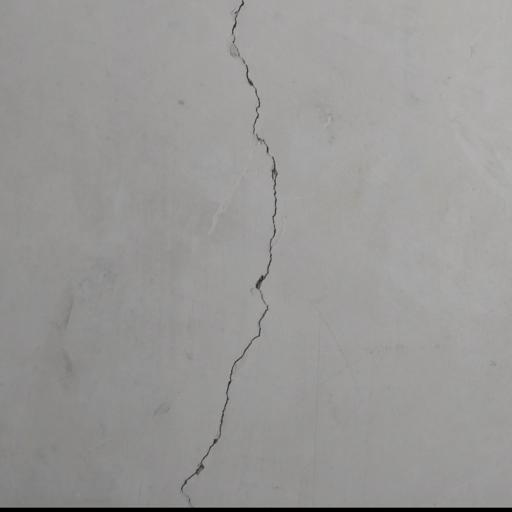minor_crack: (160, 1, 291, 512)
